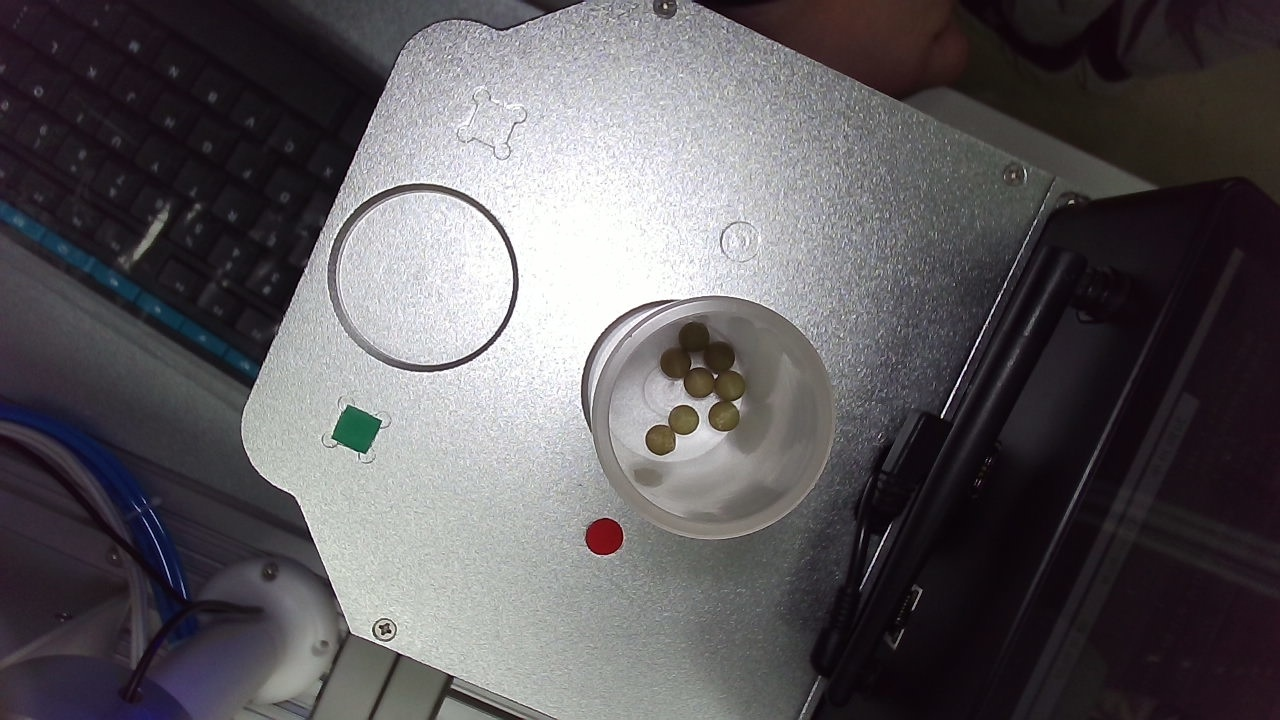XLabel: (366, 39, 433, 107)
YLabel: (786, 83, 866, 158)
none: (638, 215, 981, 558)
transparenexcept: (59, 99, 513, 498)
